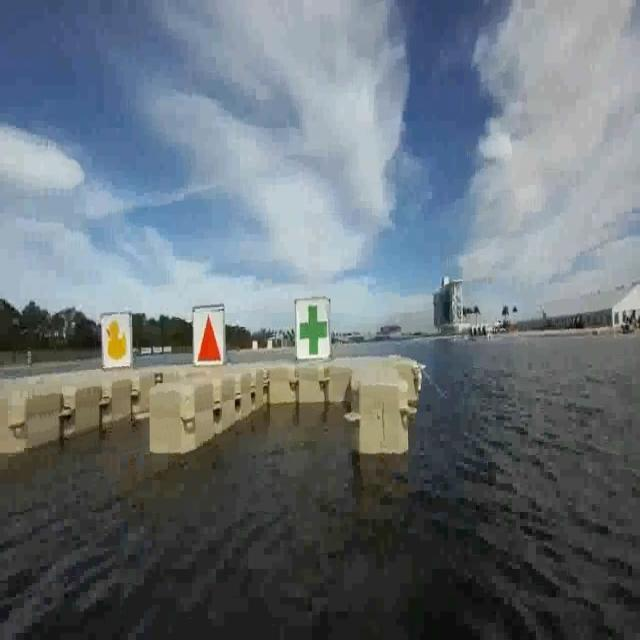blue-cross: (295, 296, 332, 362)
red-dot: (192, 310, 225, 366)
yellow-duck: (105, 319, 127, 362)
